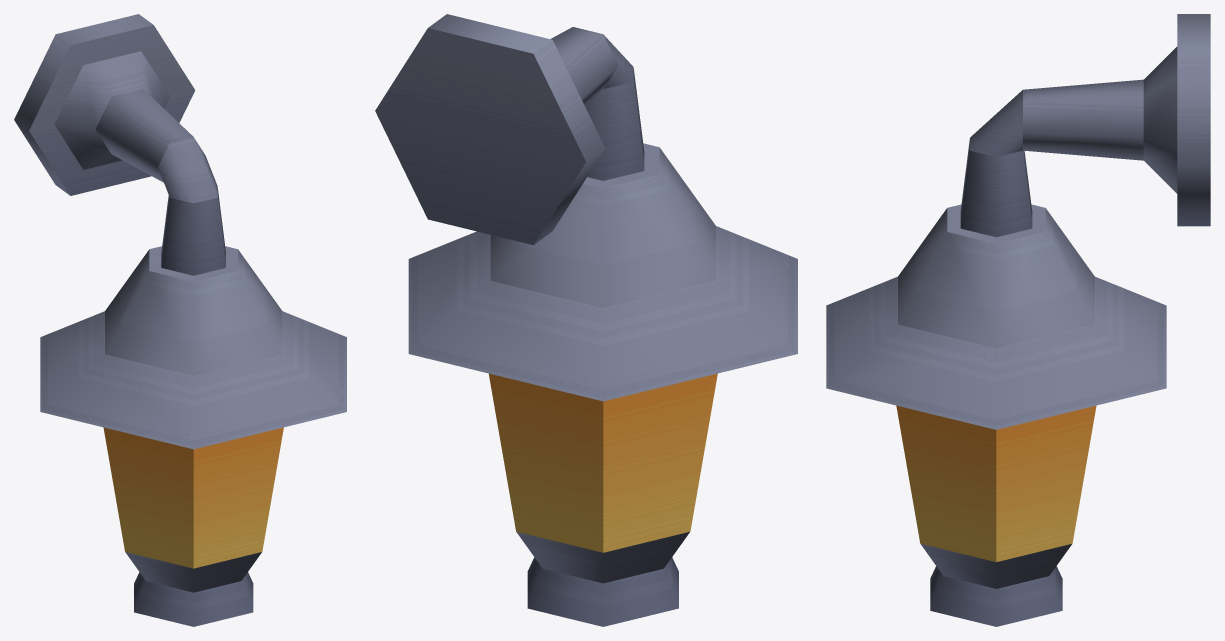
File: lantern-hanging.glb
3 views of the same model, side by side, from view 1: azimuth 30°, elevation 25°; view 2: azimuth 150°, elevation 25°; view 3: azimuth 270°, elevation 25° (orthographic). The views are drawn at different scales.
Parts seen in each view (by area): view 1: lantern-hanging; view 2: lantern-hanging; view 3: lantern-hanging.
Boxes of the visible parts, x1,y1,x2,y2 form: lantern-hanging: [14, 14, 346, 626]; lantern-hanging: [375, 14, 797, 626]; lantern-hanging: [826, 14, 1210, 626].
Size of the model in its own units: 0.4254 by 0.6671 by 0.4162.
1 material, 1 textured.
